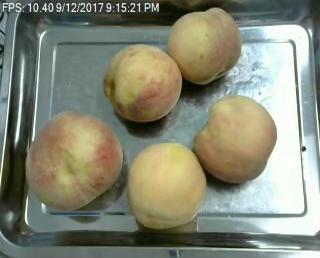Peach: (27, 110, 122, 212), (192, 97, 276, 183), (126, 141, 205, 230), (103, 42, 180, 122), (167, 7, 243, 85)
